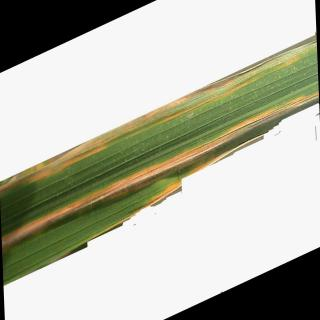Hawar-Daun: (0, 87, 318, 251), (0, 126, 115, 193)
